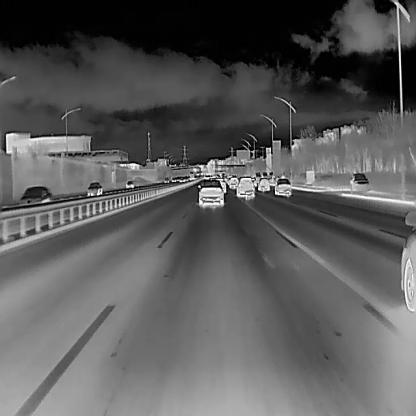car: (18, 184, 53, 213), (196, 178, 225, 206), (234, 176, 254, 198), (346, 172, 369, 191), (274, 177, 291, 197), (84, 180, 102, 196), (256, 176, 270, 191), (228, 176, 238, 188), (124, 179, 134, 190), (162, 176, 169, 183), (170, 176, 176, 182), (178, 176, 183, 183)
truck: (188, 170, 194, 180)
